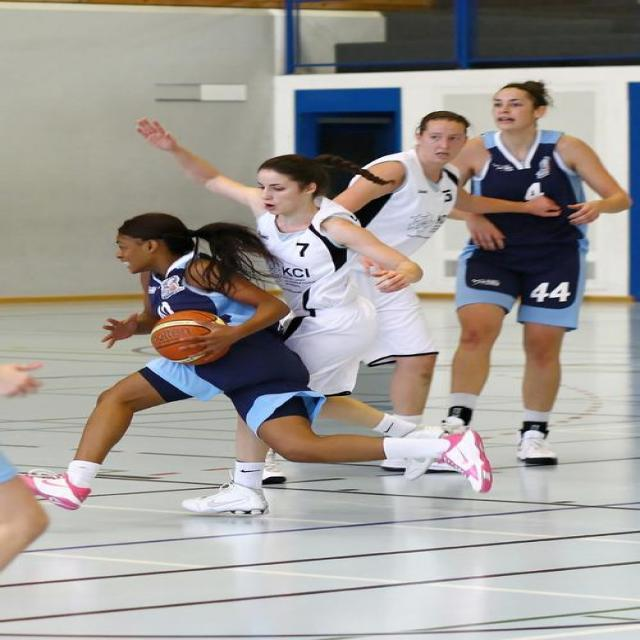rim: (153, 311, 235, 362)
